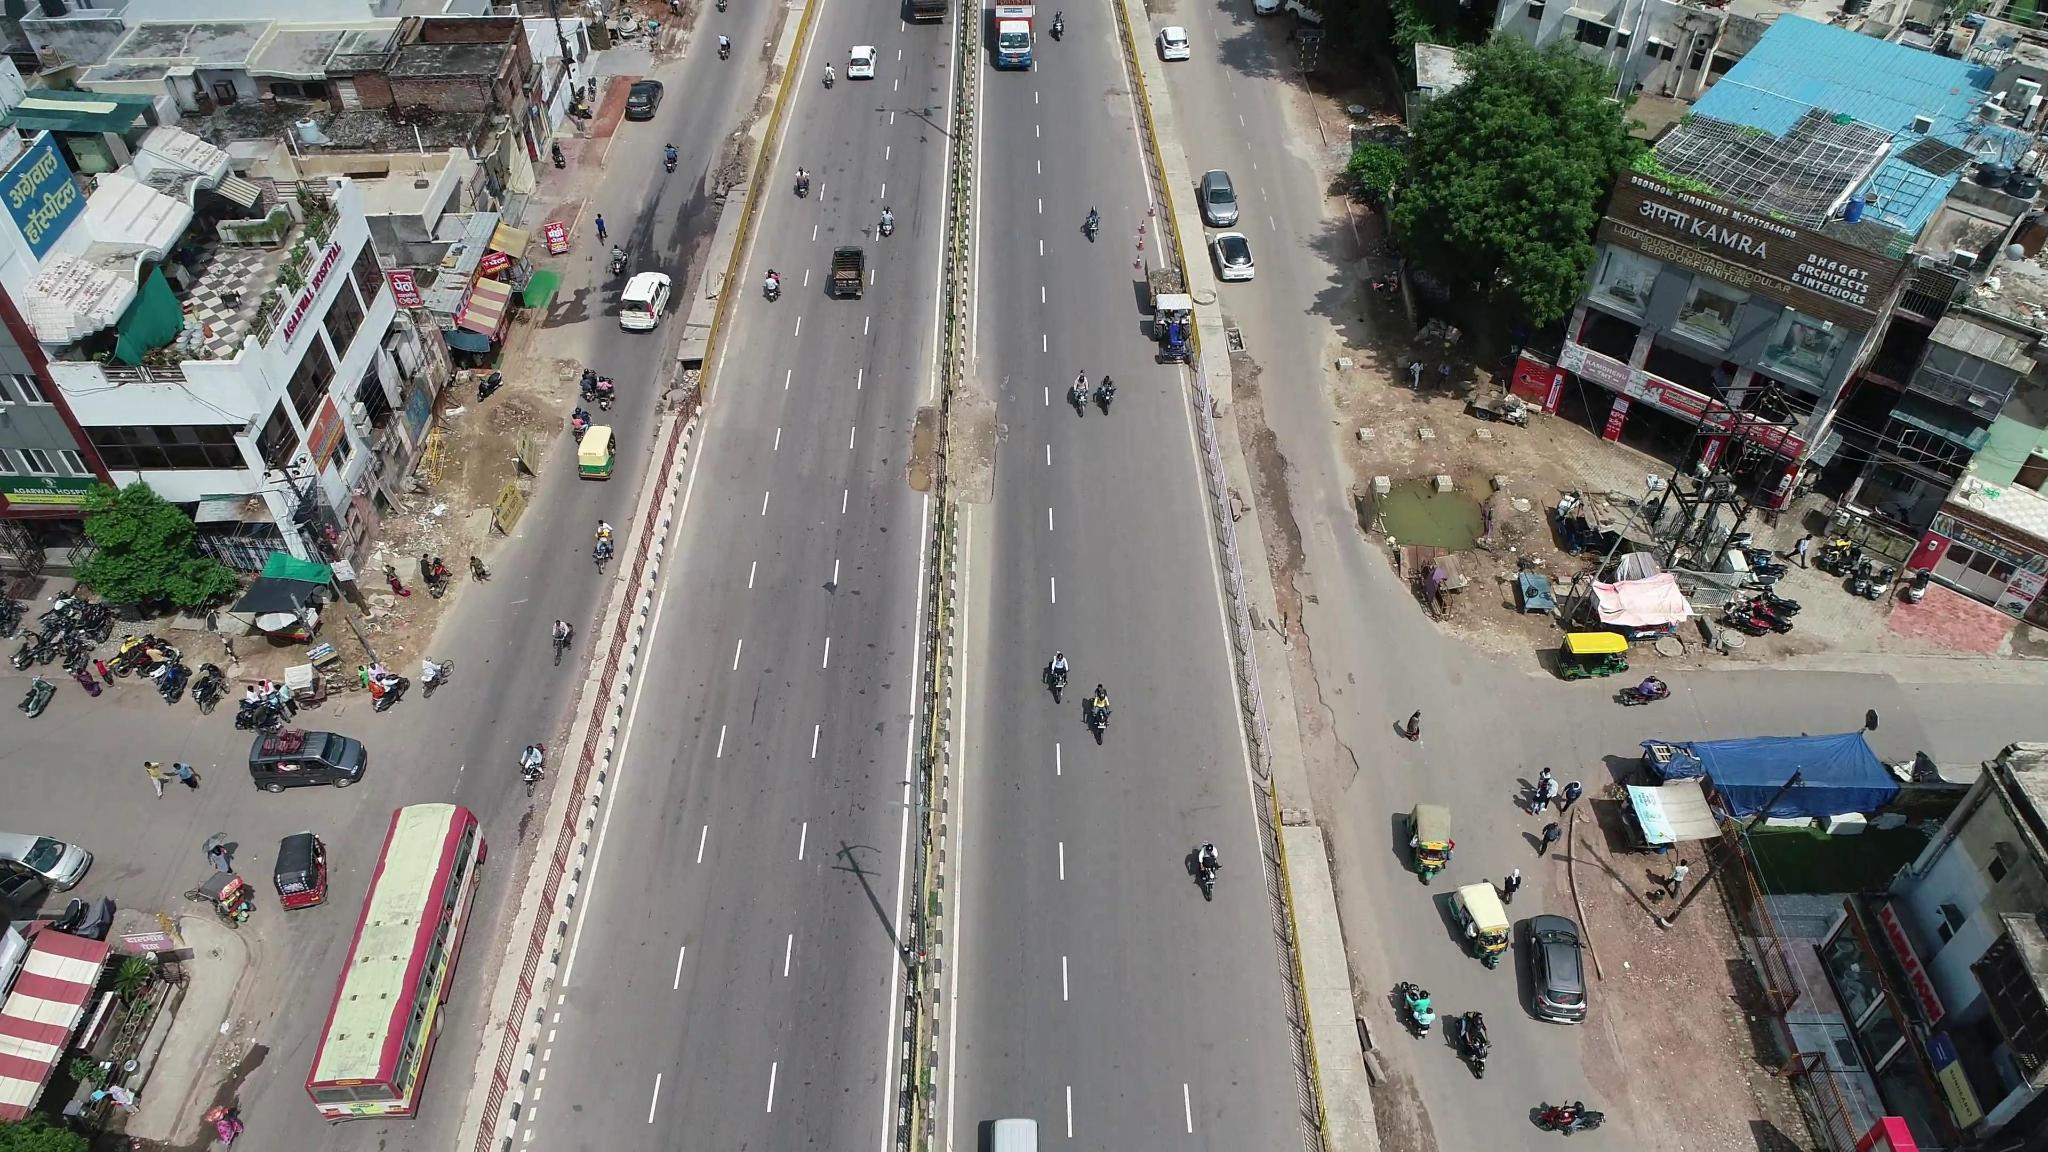Potholes: (975, 391, 1014, 513), (902, 394, 931, 506)
